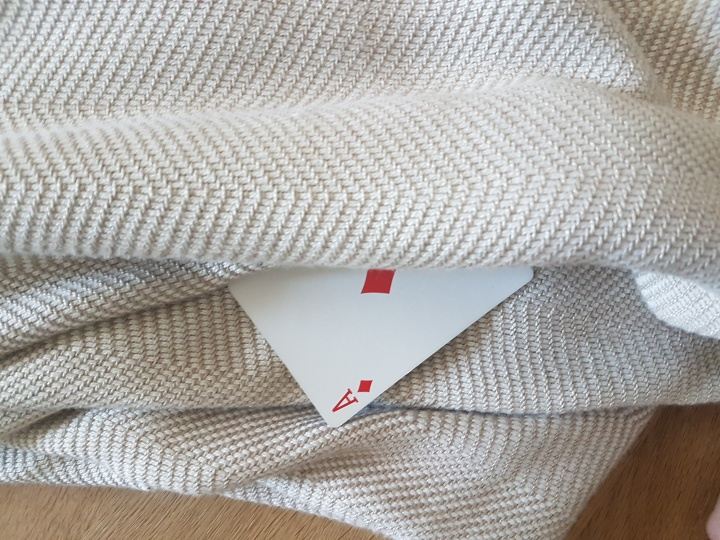ace: (214, 250, 553, 431)
